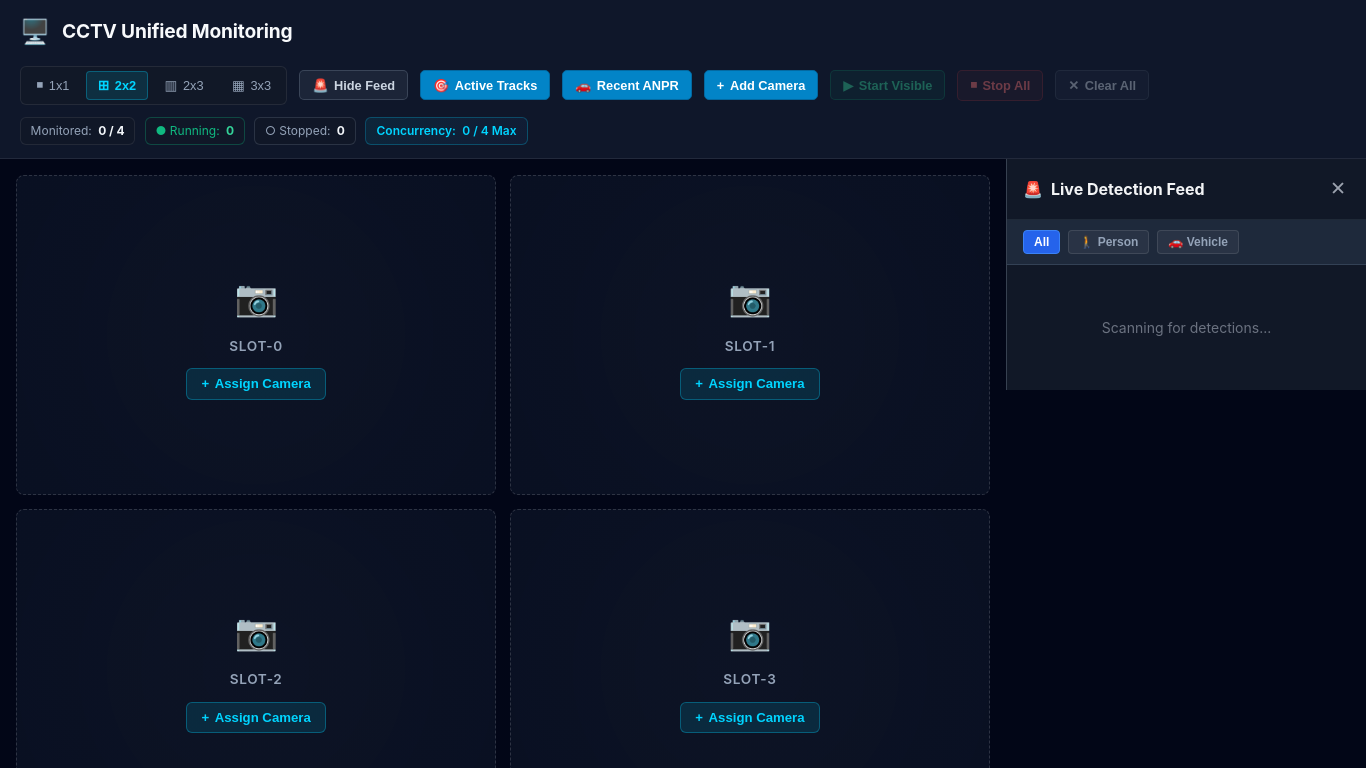
Test: Phase 6 — MonitoringPage & Multi-Camera Grid › 4. prevents duplicate camera assignment in multiple slots
// Assign CAM-AHM-001 to slot 0
Click the button "+ Assign Camera" below "SLOT-0": (256, 384) [186,368,326,400]
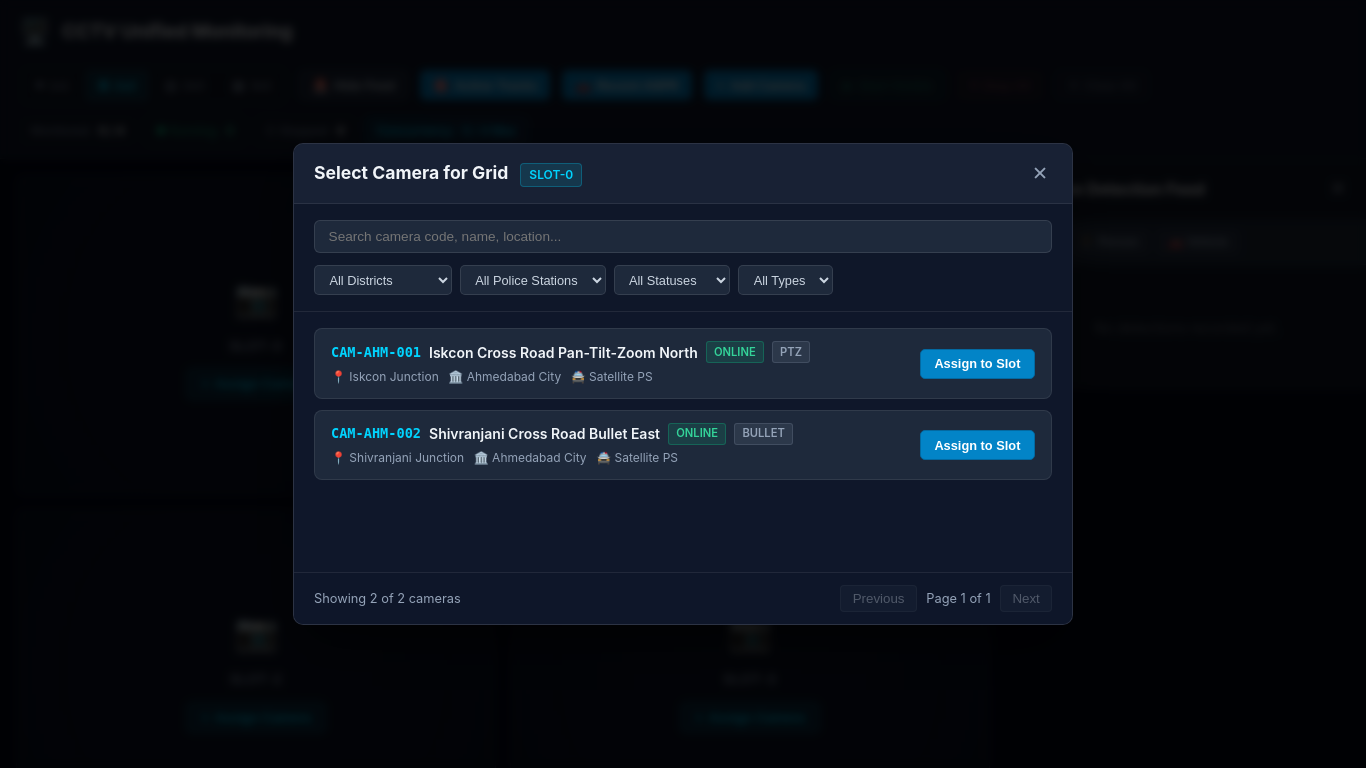
Result: the text "CAM-AHM-001" is shown at [331,342,421,363]
Click the button "Assign to Slot" next to "PTZ": (977, 364) [920,349,1035,379]
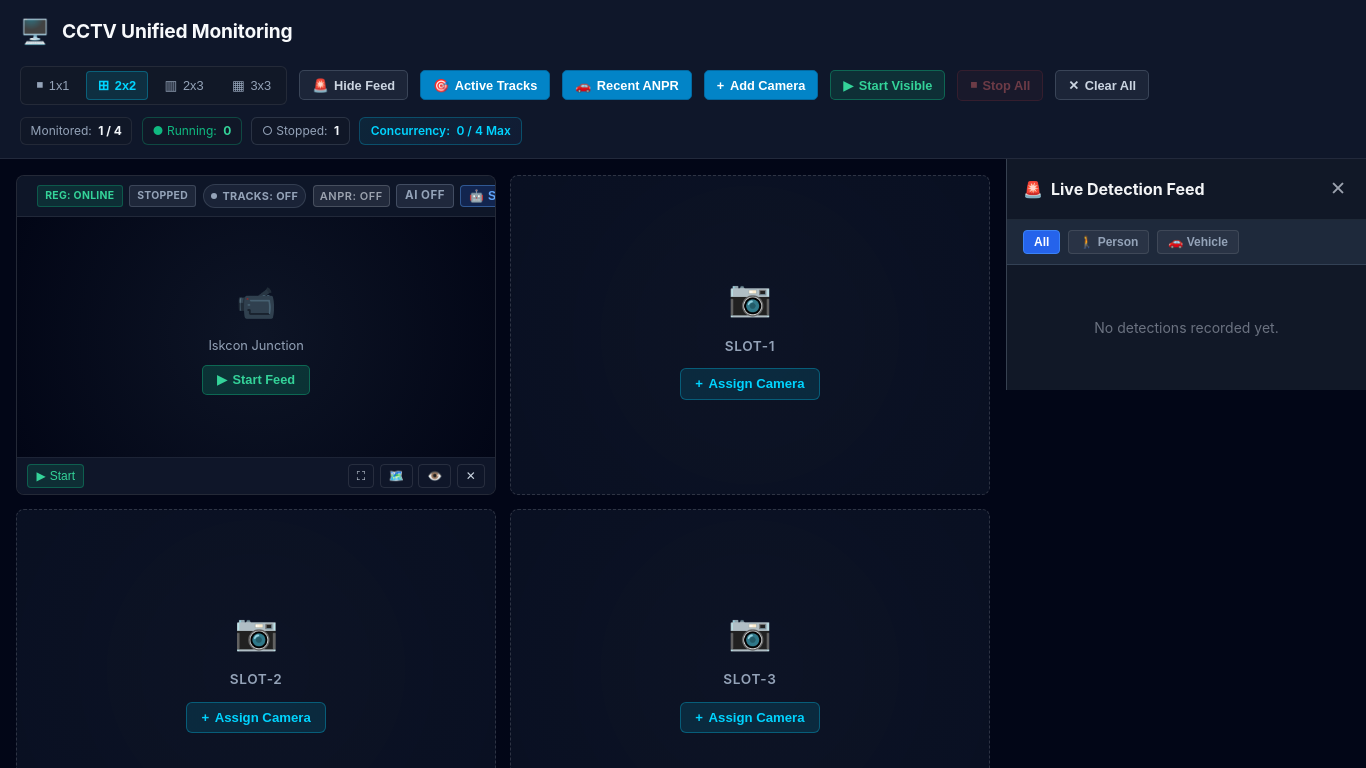
// Try to assign to slot 1
Click the button "+ Assign Camera" below "SLOT-1": (750, 384) [680,368,820,400]
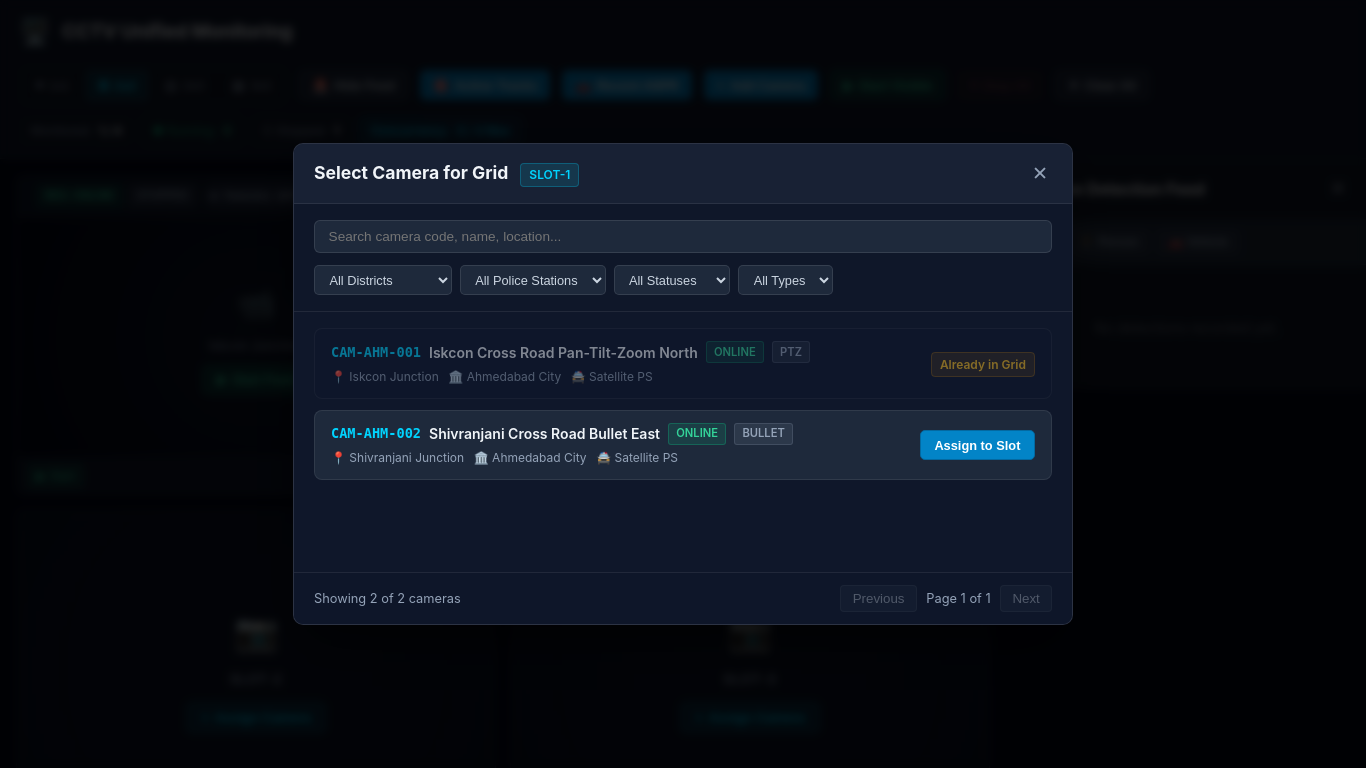
Result: the text "Already in Grid" is shown at [931,352,1035,377]
